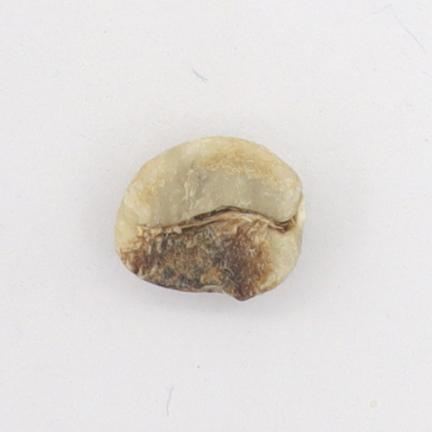partial-black: (116, 137, 304, 300)
